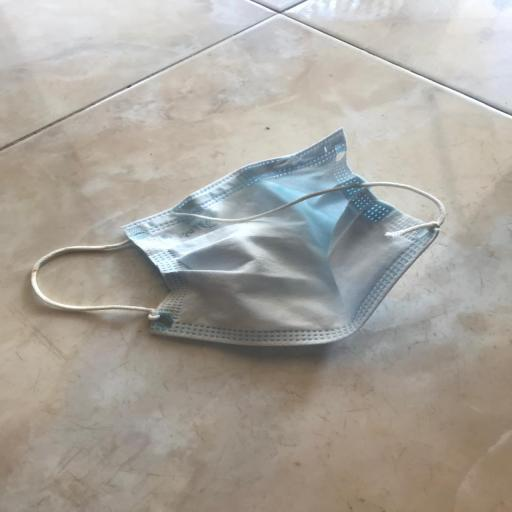waste: (22, 118, 456, 366)
